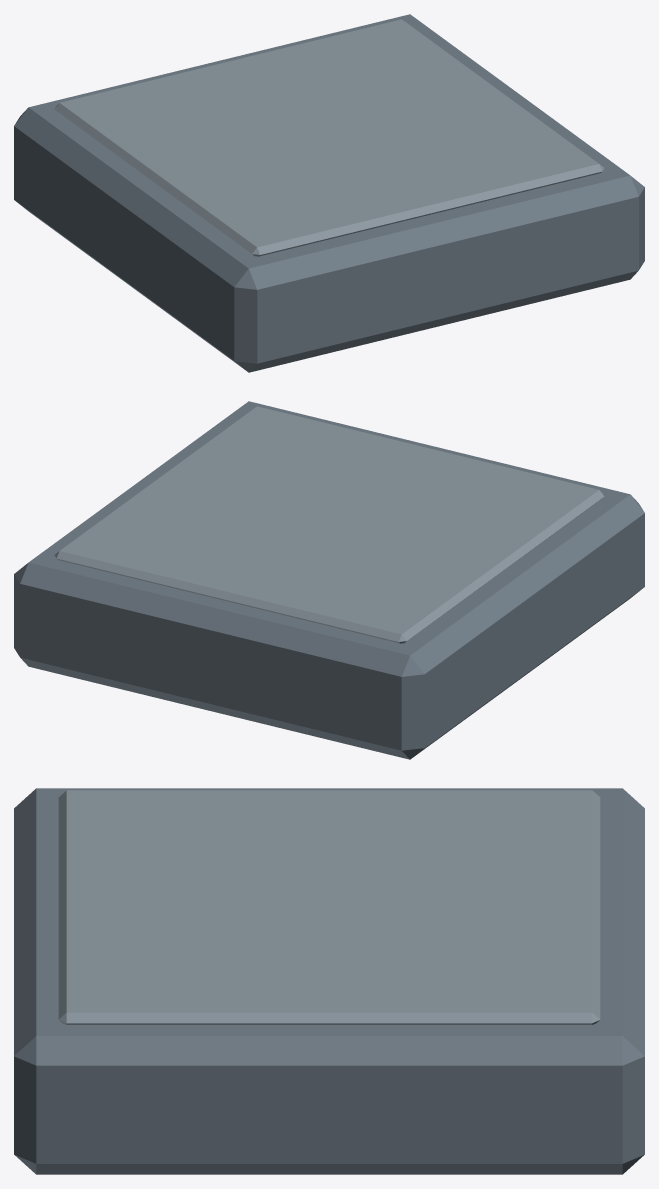
Rendered from floor.glb.
The picture shows the model from 3 angles, top to bottom: view 1: azimuth 30°, elevation 25°; view 2: azimuth 150°, elevation 25°; view 3: azimuth 270°, elevation 25°; orthographic projection. The views are drawn at different scales.
Visible parts, largest first — view 1: floor; view 2: floor; view 3: floor.
Part boxes in pixels (x1,y1,x2,y2): floor: [14, 14, 644, 372]; floor: [14, 401, 644, 759]; floor: [14, 788, 644, 1174].
Bounding box in the file's own units: 0.99 × 0.2585 × 0.99.
